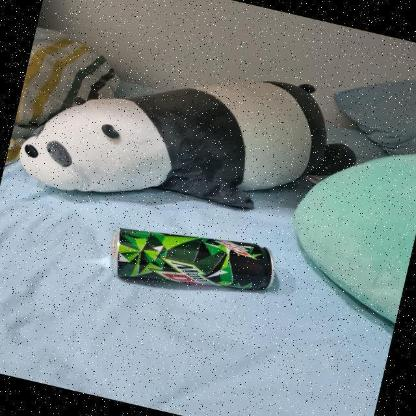Can: (112, 228, 276, 292)
